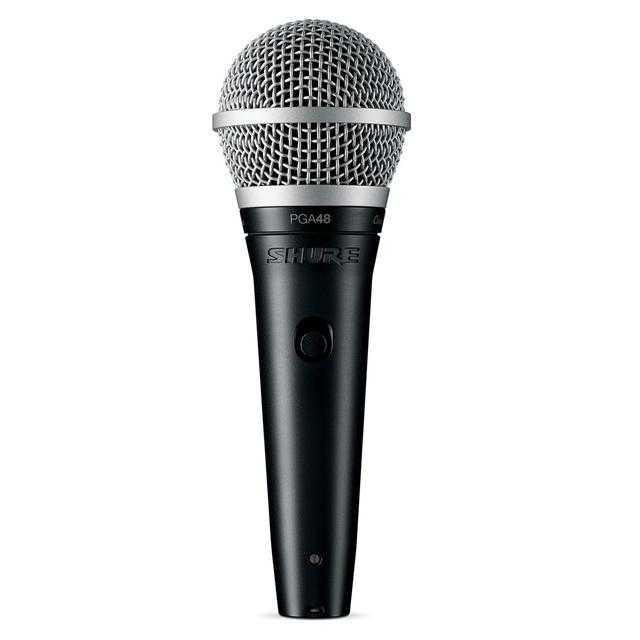microphone: (202, 9, 430, 633)
